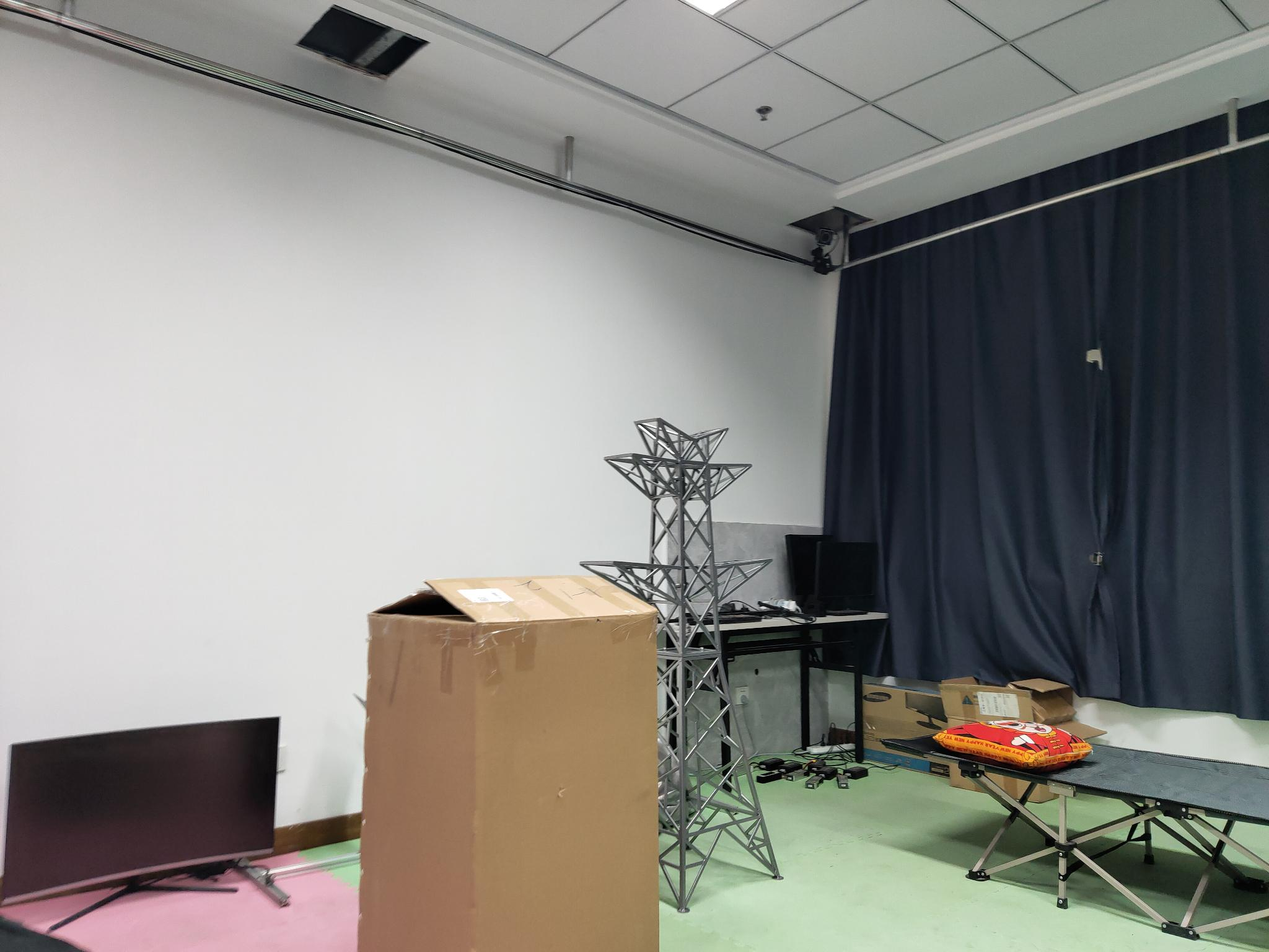tower: (644, 419, 778, 894)
